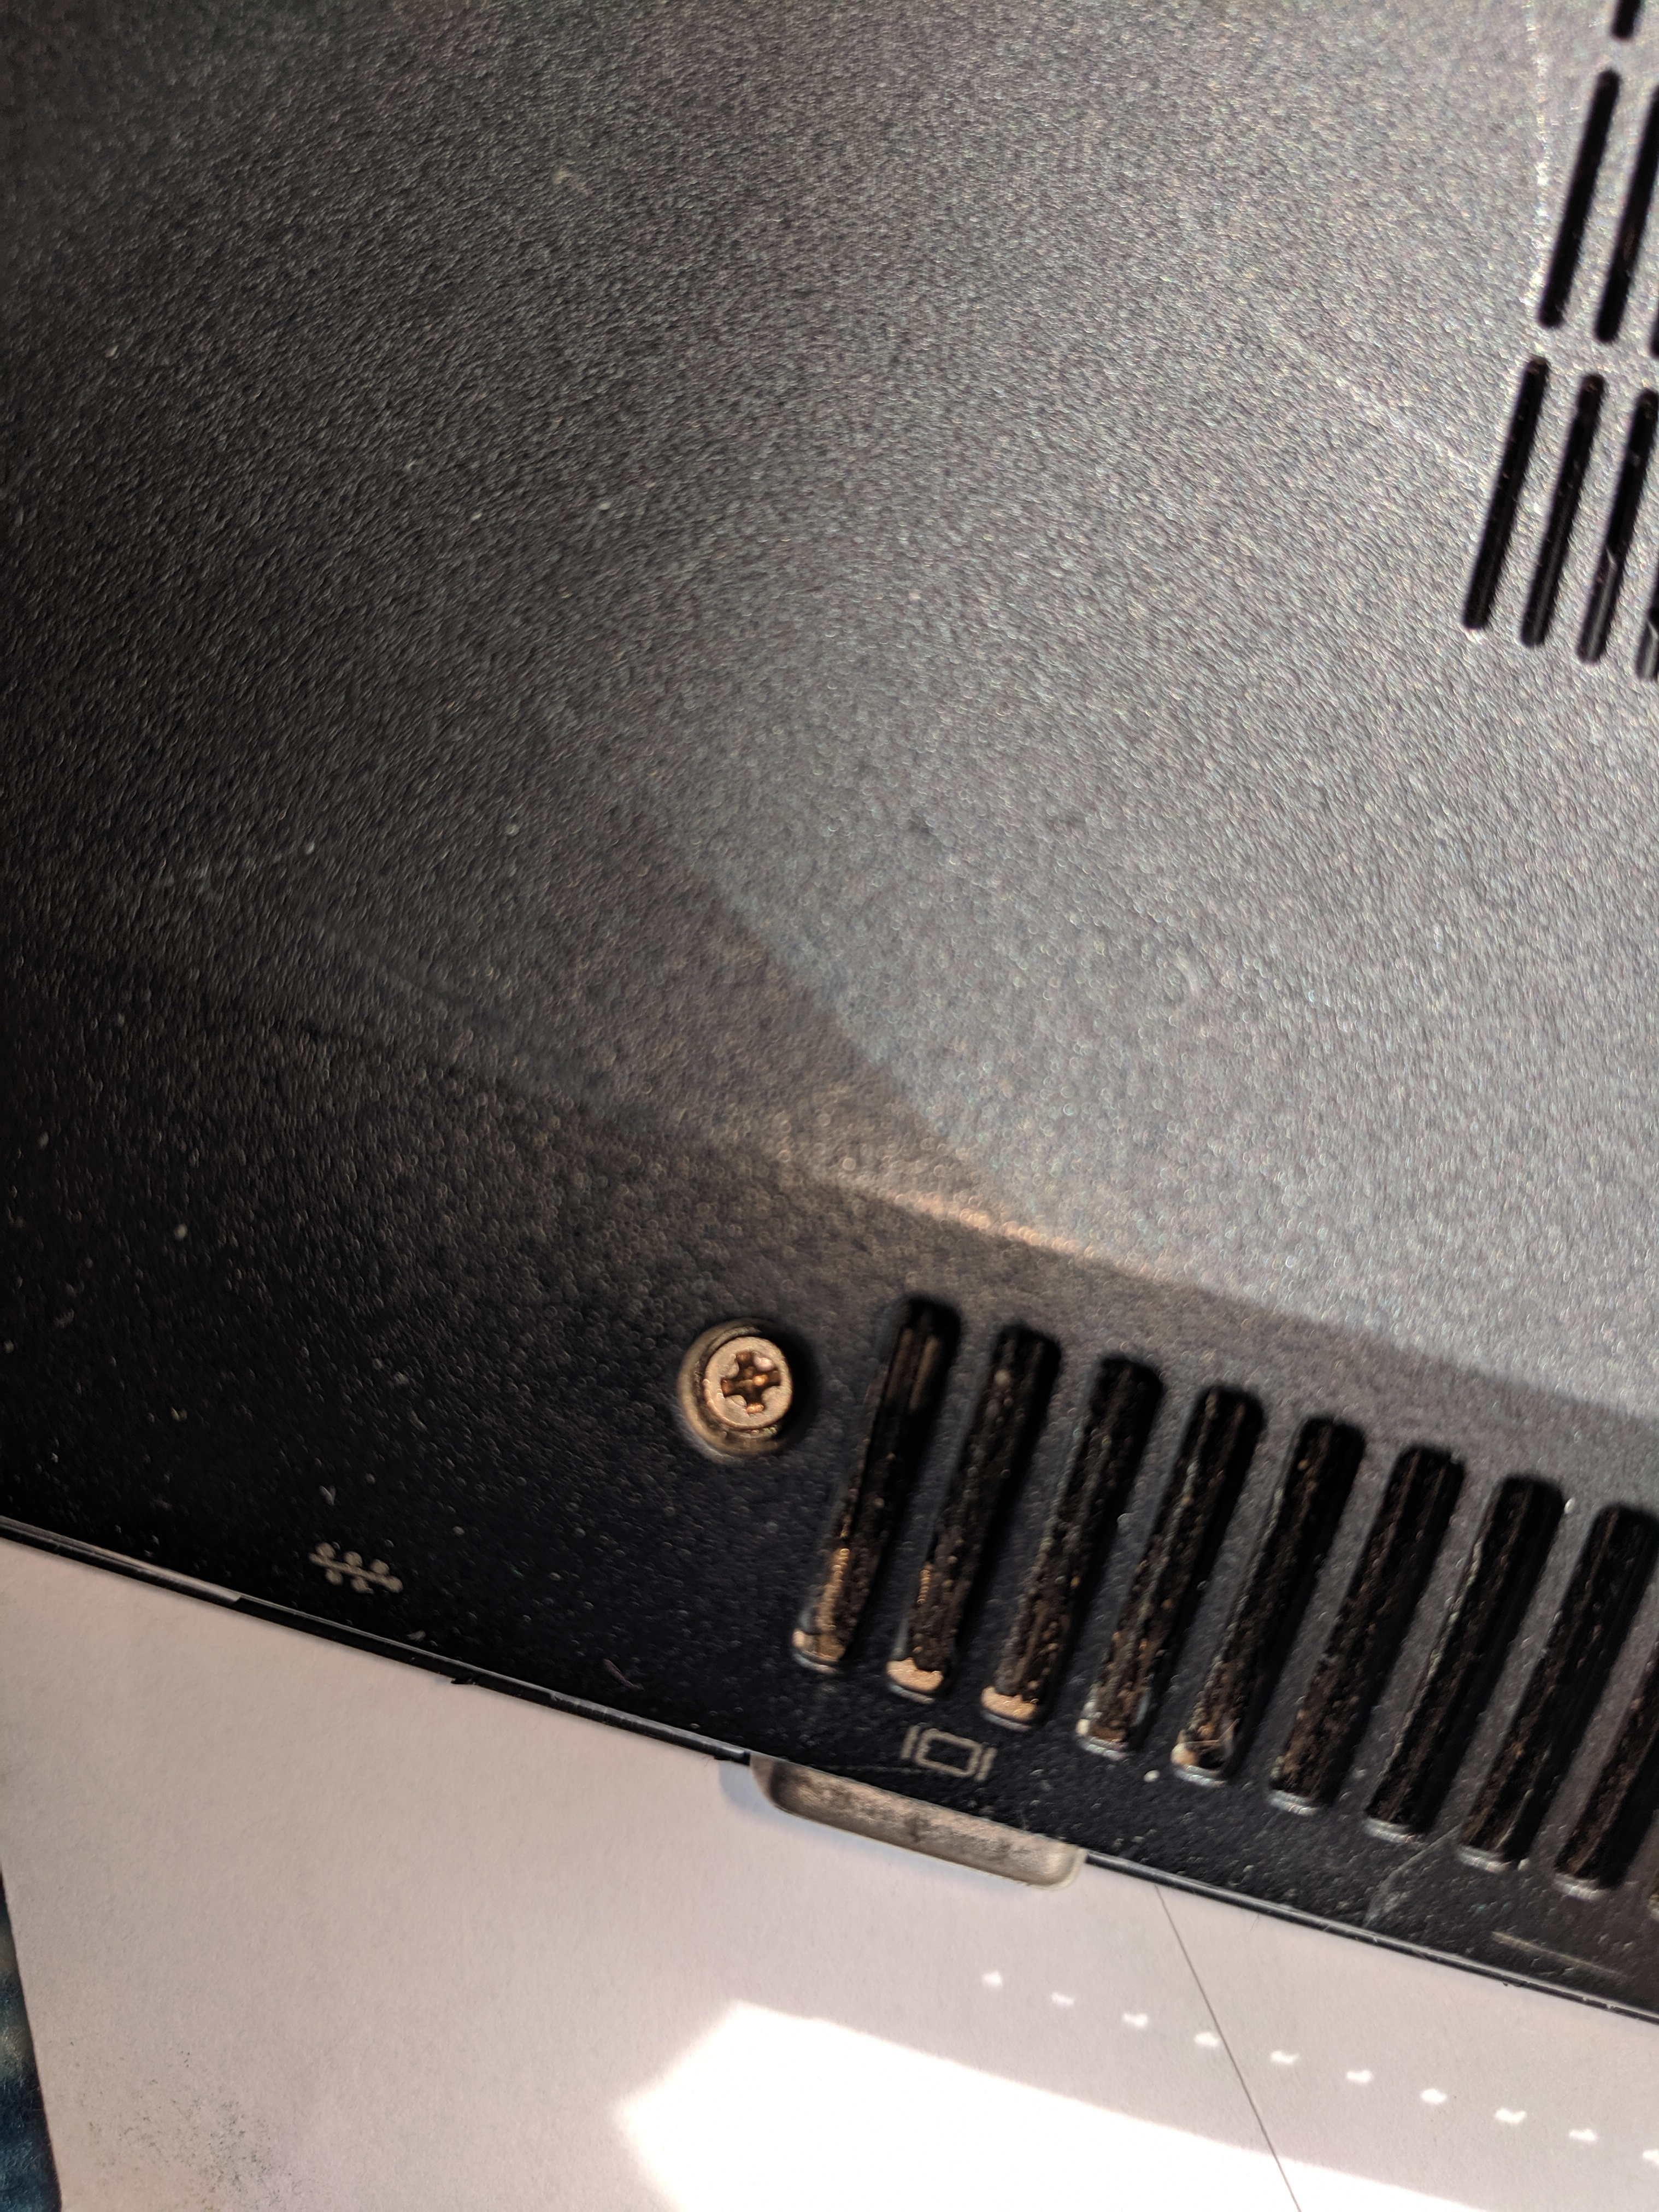cross_recessed_screw: (641, 759, 802, 928)
